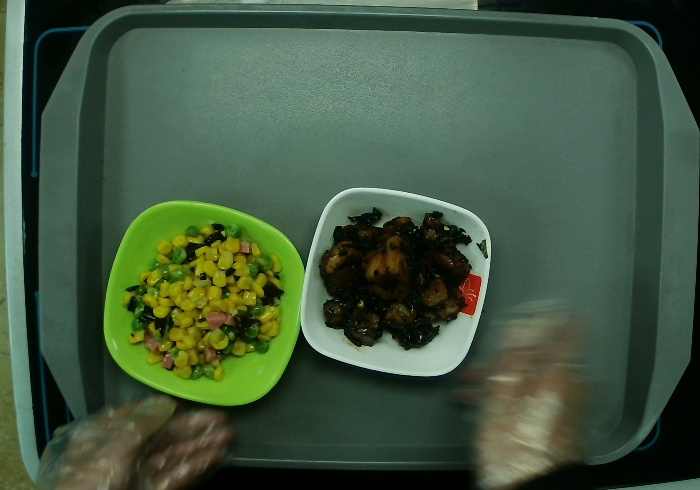SHKJ-Bai_Se_Xiao_Fang_Die: (299, 187, 491, 377)
SHKJ-Lv_Se_Cai_Die: (102, 200, 306, 407)
